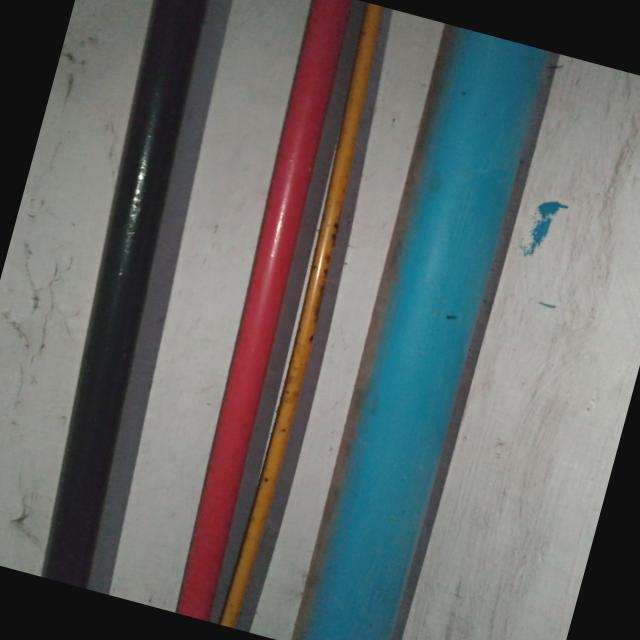gas: (277, 21, 562, 640), (0, 0, 255, 589), (145, 0, 374, 621)
